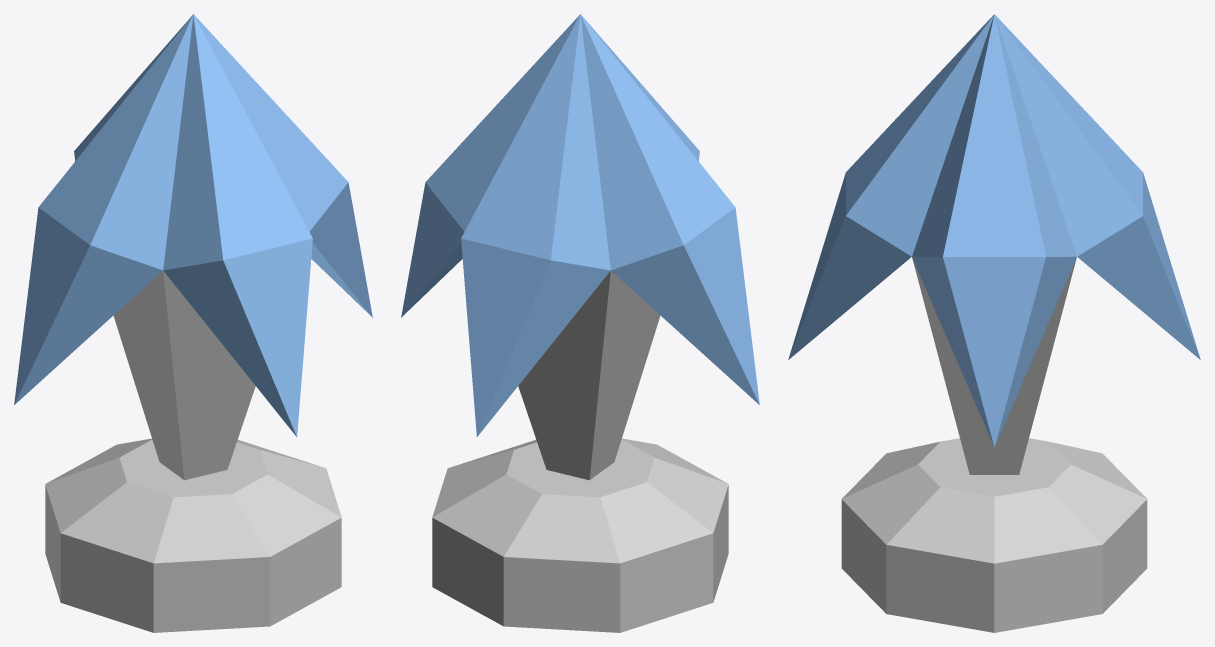
The model's file is item_booster_luck.fbx.
3 renders of one model, left to right at view 1: azimuth 30°, elevation 25°; view 2: azimuth 150°, elevation 25°; view 3: azimuth 270°, elevation 25°, orthographic.
Parts seen in each view (by area): view 1: Cube; view 2: Cube; view 3: Cube.
Boxes of the visible parts, x1,y1,x2,y2 form: Cube: (14,14,372,632); Cube: (401,14,759,632); Cube: (788,14,1200,632).
Bounding box in the file's own units: 270 × 400 × 270.
